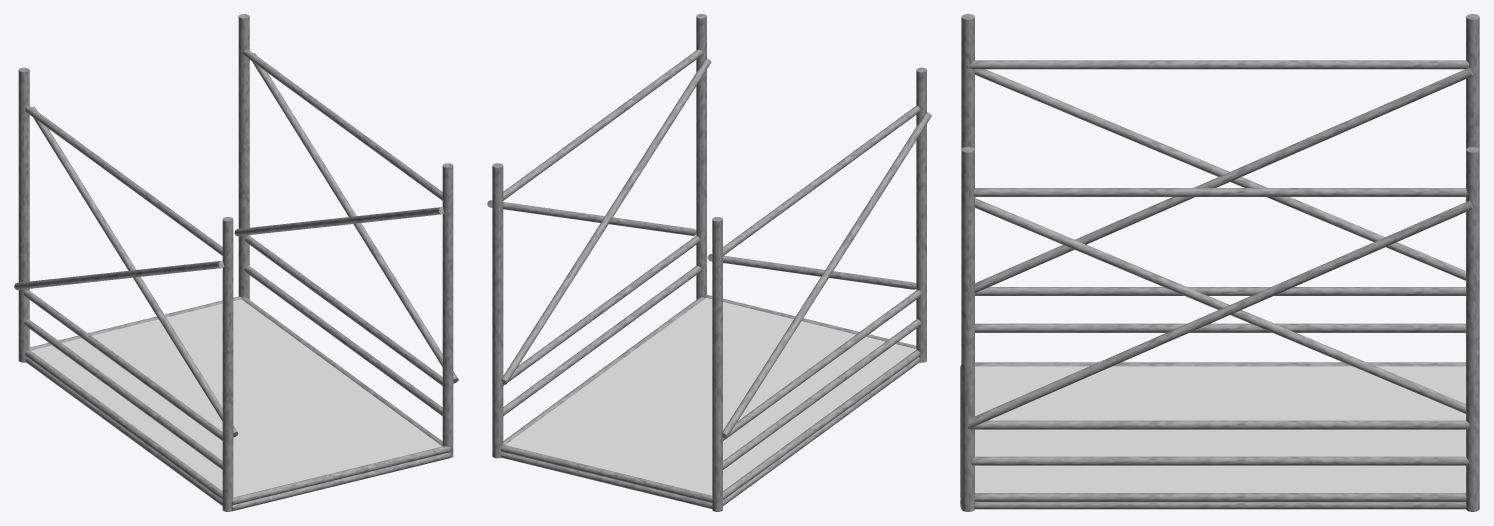
Rendered from Scaffloding_003.fbx.
The picture shows the model from 3 angles, left to right: view 1: azimuth 30°, elevation 25°; view 2: azimuth 150°, elevation 25°; view 3: azimuth 270°, elevation 25°; orthographic projection. The views are drawn at different scales.
Visible parts, largest first — view 1: Scaffolding_001_1.022; view 2: Scaffolding_001_1.022; view 3: Scaffolding_001_1.022.
Boxes of the visible parts, x1,y1,x2,y2 form: Scaffolding_001_1.022: [14, 14, 458, 511]; Scaffolding_001_1.022: [487, 14, 931, 511]; Scaffolding_001_1.022: [960, 14, 1479, 511].
Size of the model in its own units: 366 by 423 by 552.
2 materials, 1 textured.
